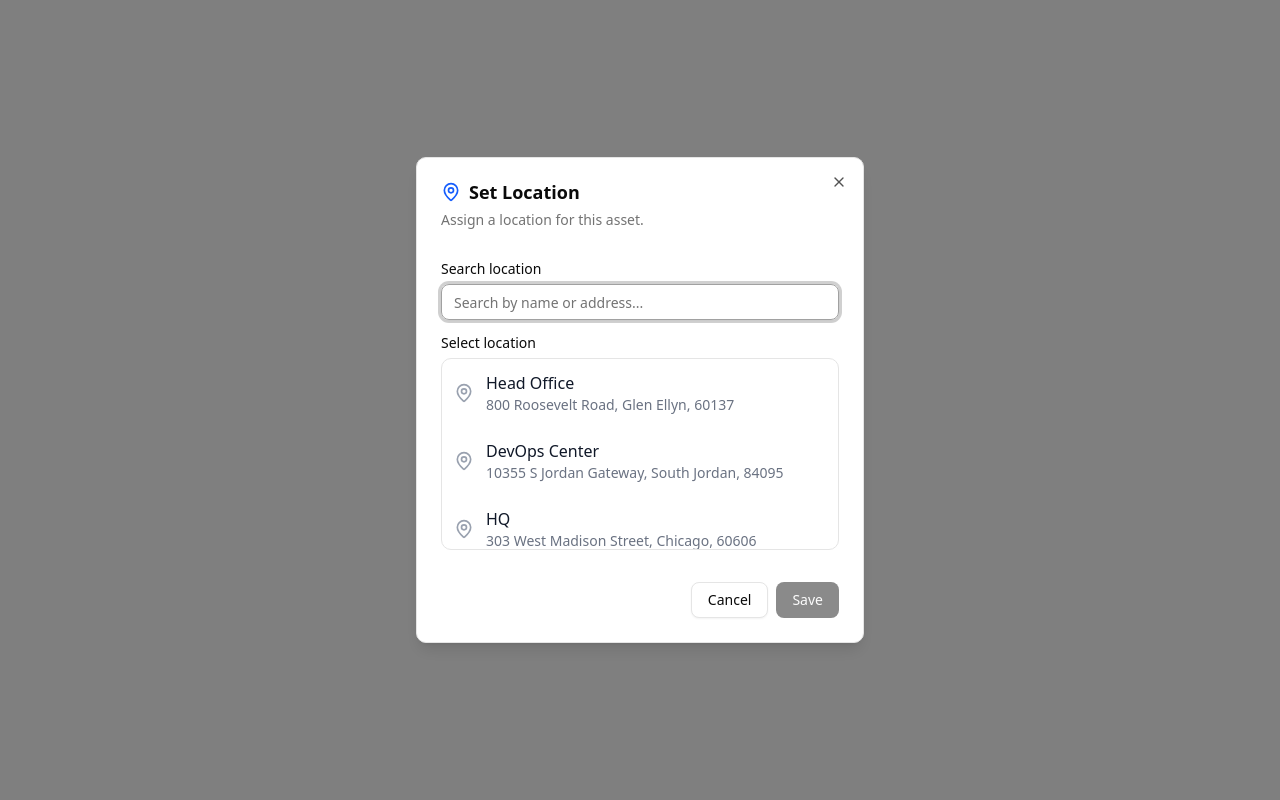
Test: SetLocationDialog › should filter locations based on search query
Type "Head" into the field labelled "Search location" at (640, 302), box x1=441 y1=284 x2=839 y2=320
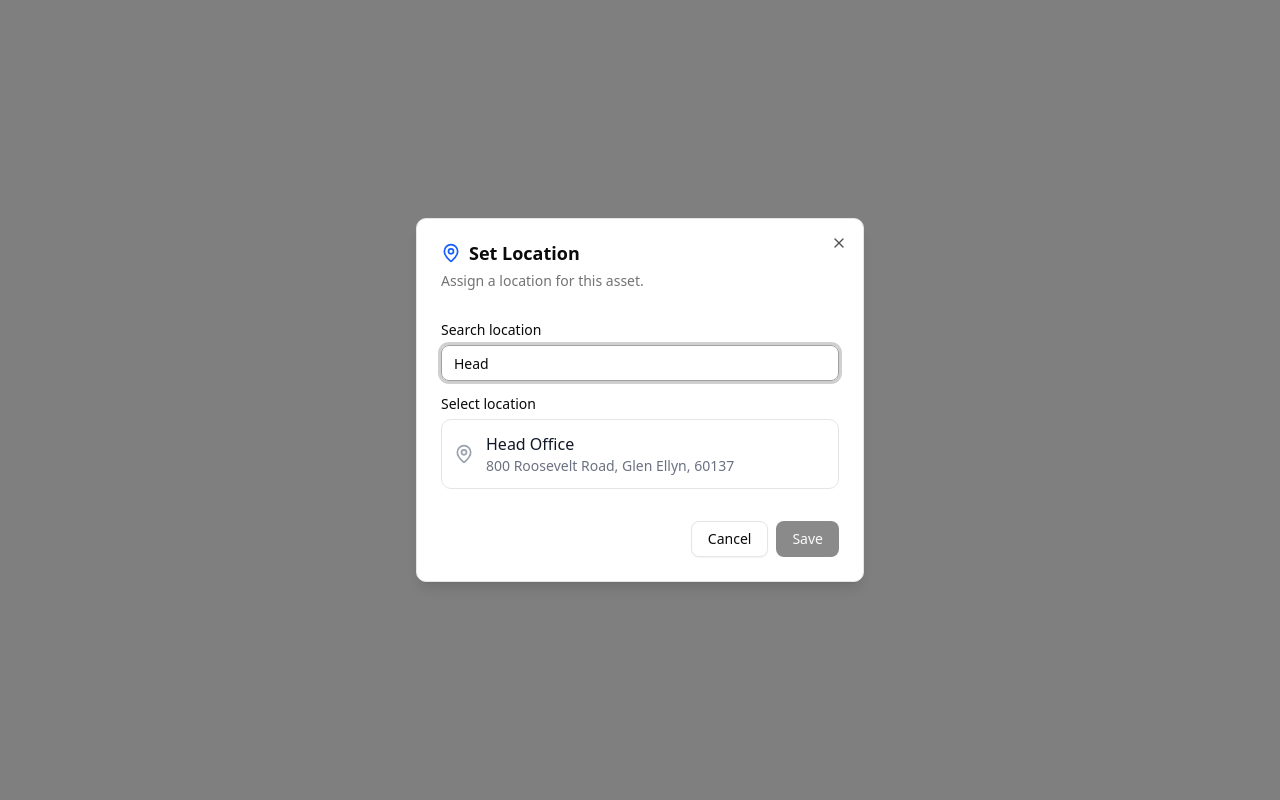
Check: the text "Head Office" is shown, box x1=486 y1=433 x2=574 y2=455
Check: the button "DevOps Center" is gone
